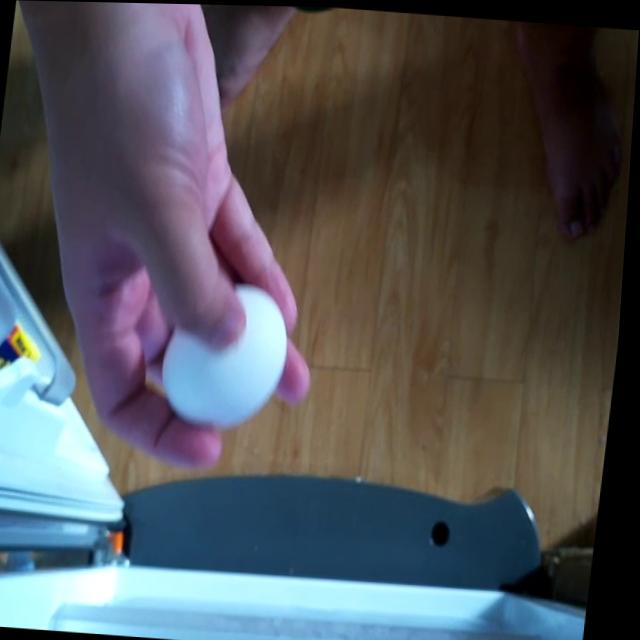egg: (158, 274, 297, 427)
